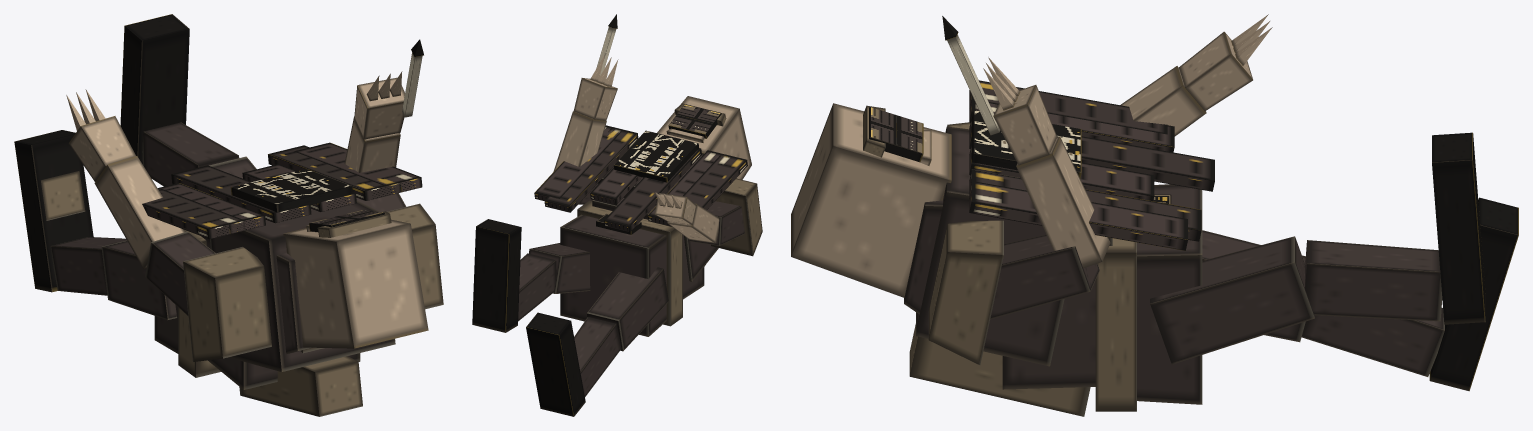
Rendered from scriptorax_move.obj.
3 renders of one model, left to right at view 1: azimuth 30°, elevation 25°; view 2: azimuth 150°, elevation 25°; view 3: azimuth 270°, elevation 25°, orthographic. The views are drawn at different scales.
Parts seen in each view (by area): view 1: scriptorax_move; view 2: scriptorax_move; view 3: scriptorax_move.
Part boxes in pixels (<box>): scriptorax_move: <box>14,14,443,416</box>; scriptorax_move: <box>472,14,762,416</box>; scriptorax_move: <box>791,14,1518,416</box>.
Bounding box in the file's own units: 0.49 × 0.6963 × 1.04.
1 material, 1 textured.
